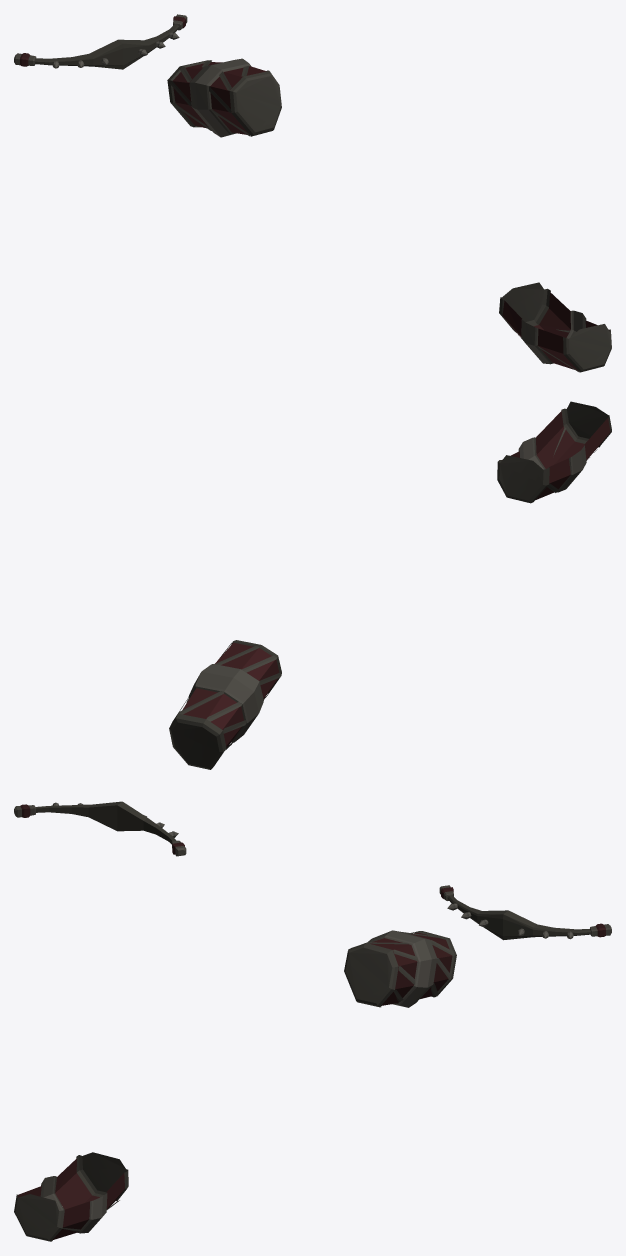
The model's file is repeatingCrossbowTacticalHandle.glb.
3 renders of one model, top to bottom at view 1: azimuth 30°, elevation 25°; view 2: azimuth 150°, elevation 25°; view 3: azimuth 330°, elevation 25°, orthographic.
Parts seen in each view (by area): view 1: repeatingCrossbowTacticalHandle; view 2: repeatingCrossbowTacticalHandle; view 3: repeatingCrossbowTacticalHandle.
Part boxes in pixels (x1,y1,x2,y2): repeatingCrossbowTacticalHandle: (14, 14, 611, 372); repeatingCrossbowTacticalHandle: (14, 401, 611, 856); repeatingCrossbowTacticalHandle: (14, 885, 611, 1241).
Bounding box in the file's own units: 0.1893 × 0.0945 × 0.9455.
